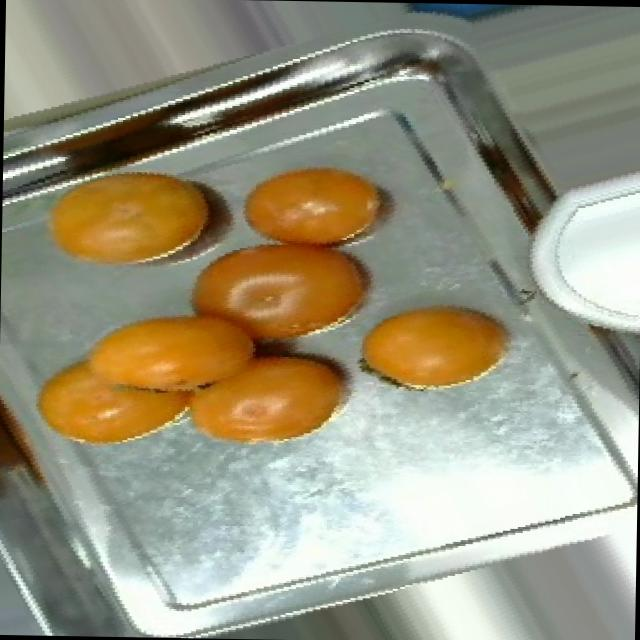Fruit: (10, 288, 236, 468), (18, 150, 238, 290), (166, 329, 376, 467), (222, 132, 424, 268), (336, 278, 529, 408)
